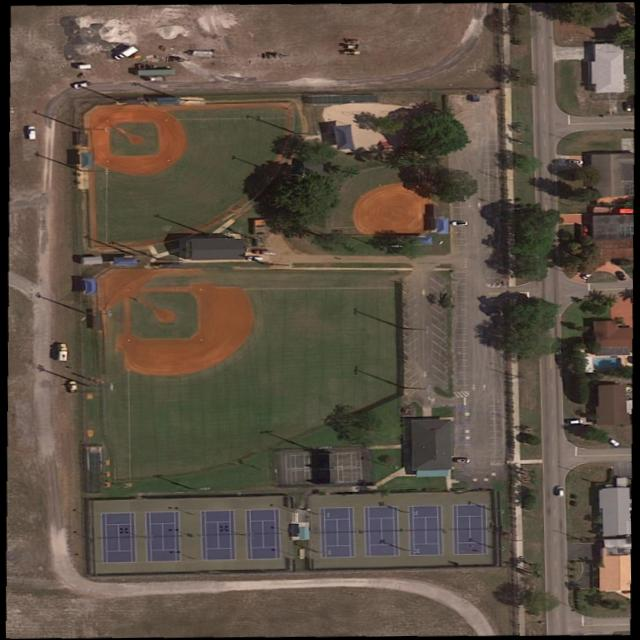large-vehicle: (111, 44, 140, 63), (55, 343, 70, 362), (25, 125, 38, 140)
small-vehicle: (604, 436, 622, 449), (72, 80, 93, 91), (580, 269, 596, 280), (252, 249, 276, 256), (450, 219, 470, 226), (568, 418, 585, 426), (553, 485, 564, 497), (615, 271, 628, 281), (68, 381, 78, 393), (454, 457, 470, 464), (623, 102, 633, 112), (565, 159, 584, 164), (247, 256, 263, 261)
